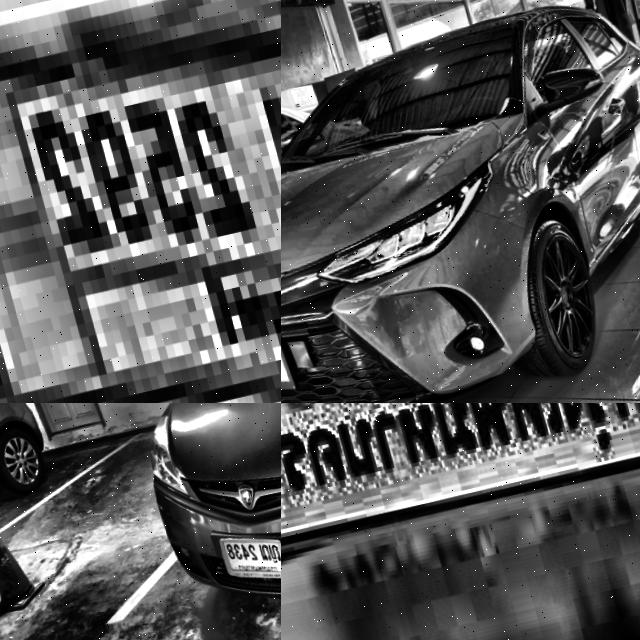license-plate: (0, 0, 281, 403), (281, 403, 640, 581), (207, 522, 281, 595)
